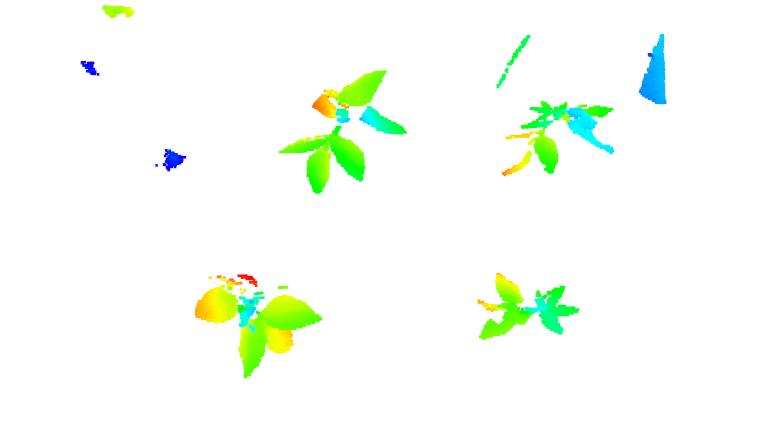mungbean: (277, 61, 413, 195), (193, 272, 323, 378), (497, 95, 622, 177), (479, 270, 587, 344)
